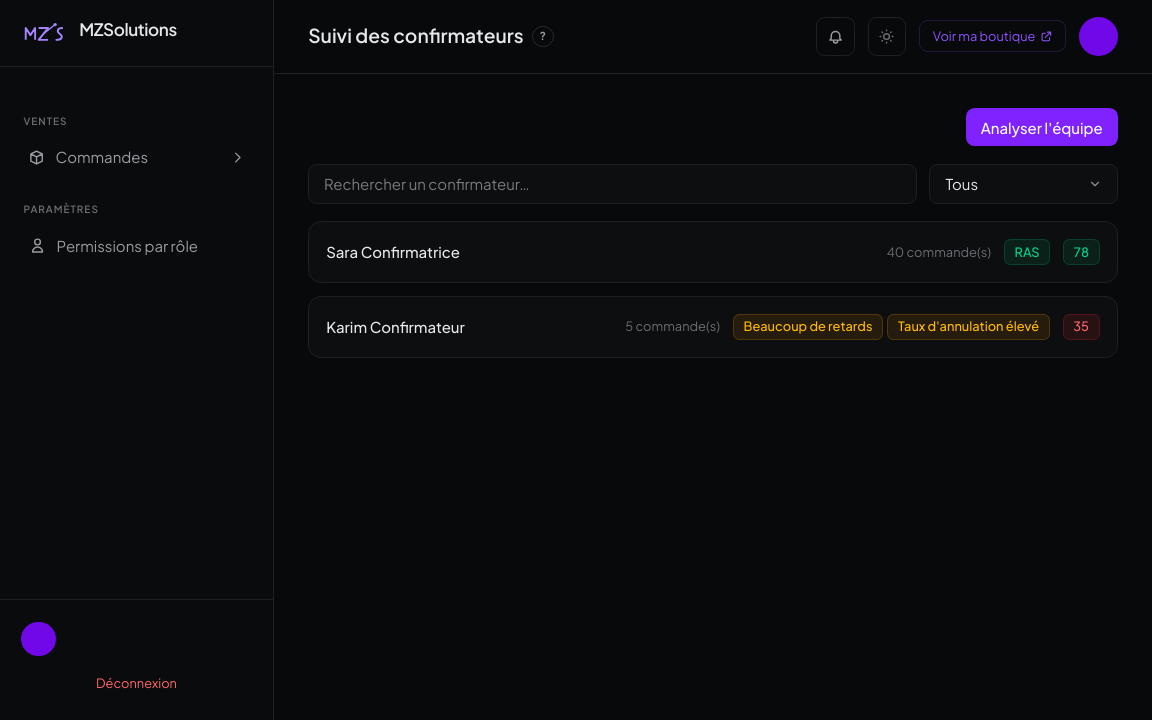
Test case: ConfirmateurMonitoringPage › affiche la synthèse IA équipe au clic sur "Analyser l'équipe"
Expected: the text "Sara Confirmatrice" is shown, left=326, top=241, right=460, bottom=263
What coordinates should you click on to do the following:
click the button "Analyser l'équipe"
I would click on:
 (1042, 127)
Its box is left=966, top=108, right=1118, bottom=146.
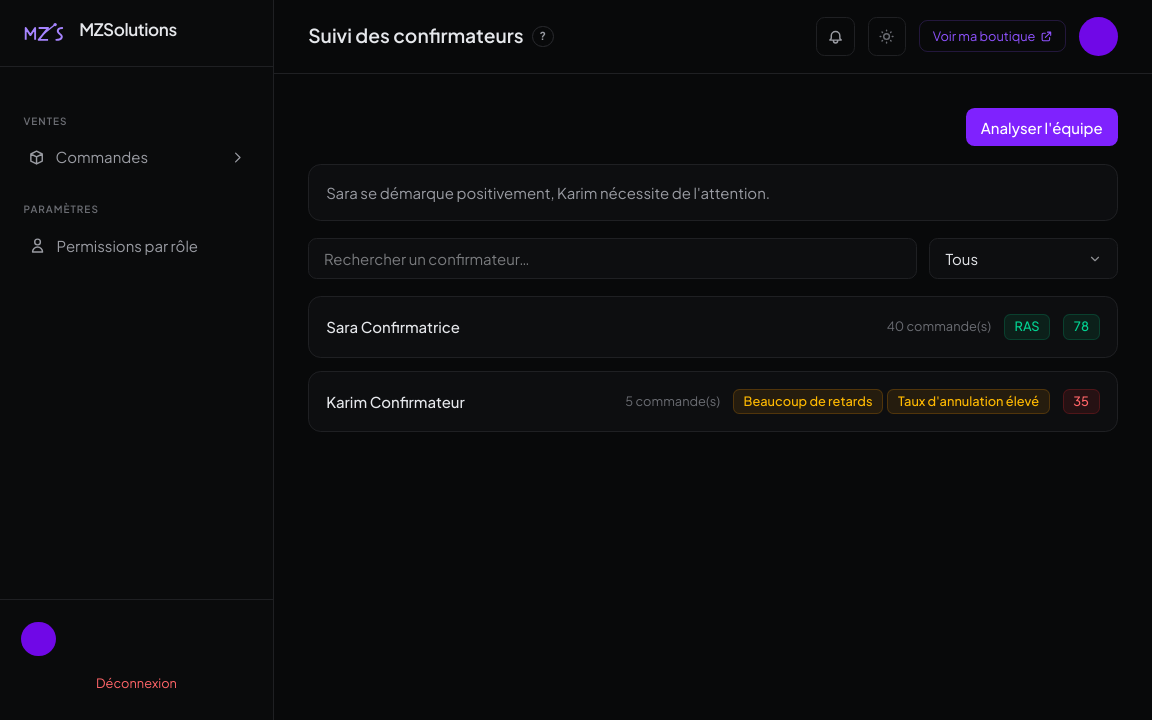
Result: the text "nécessite de l'attention" is shown at left=326, top=183, right=770, bottom=202
